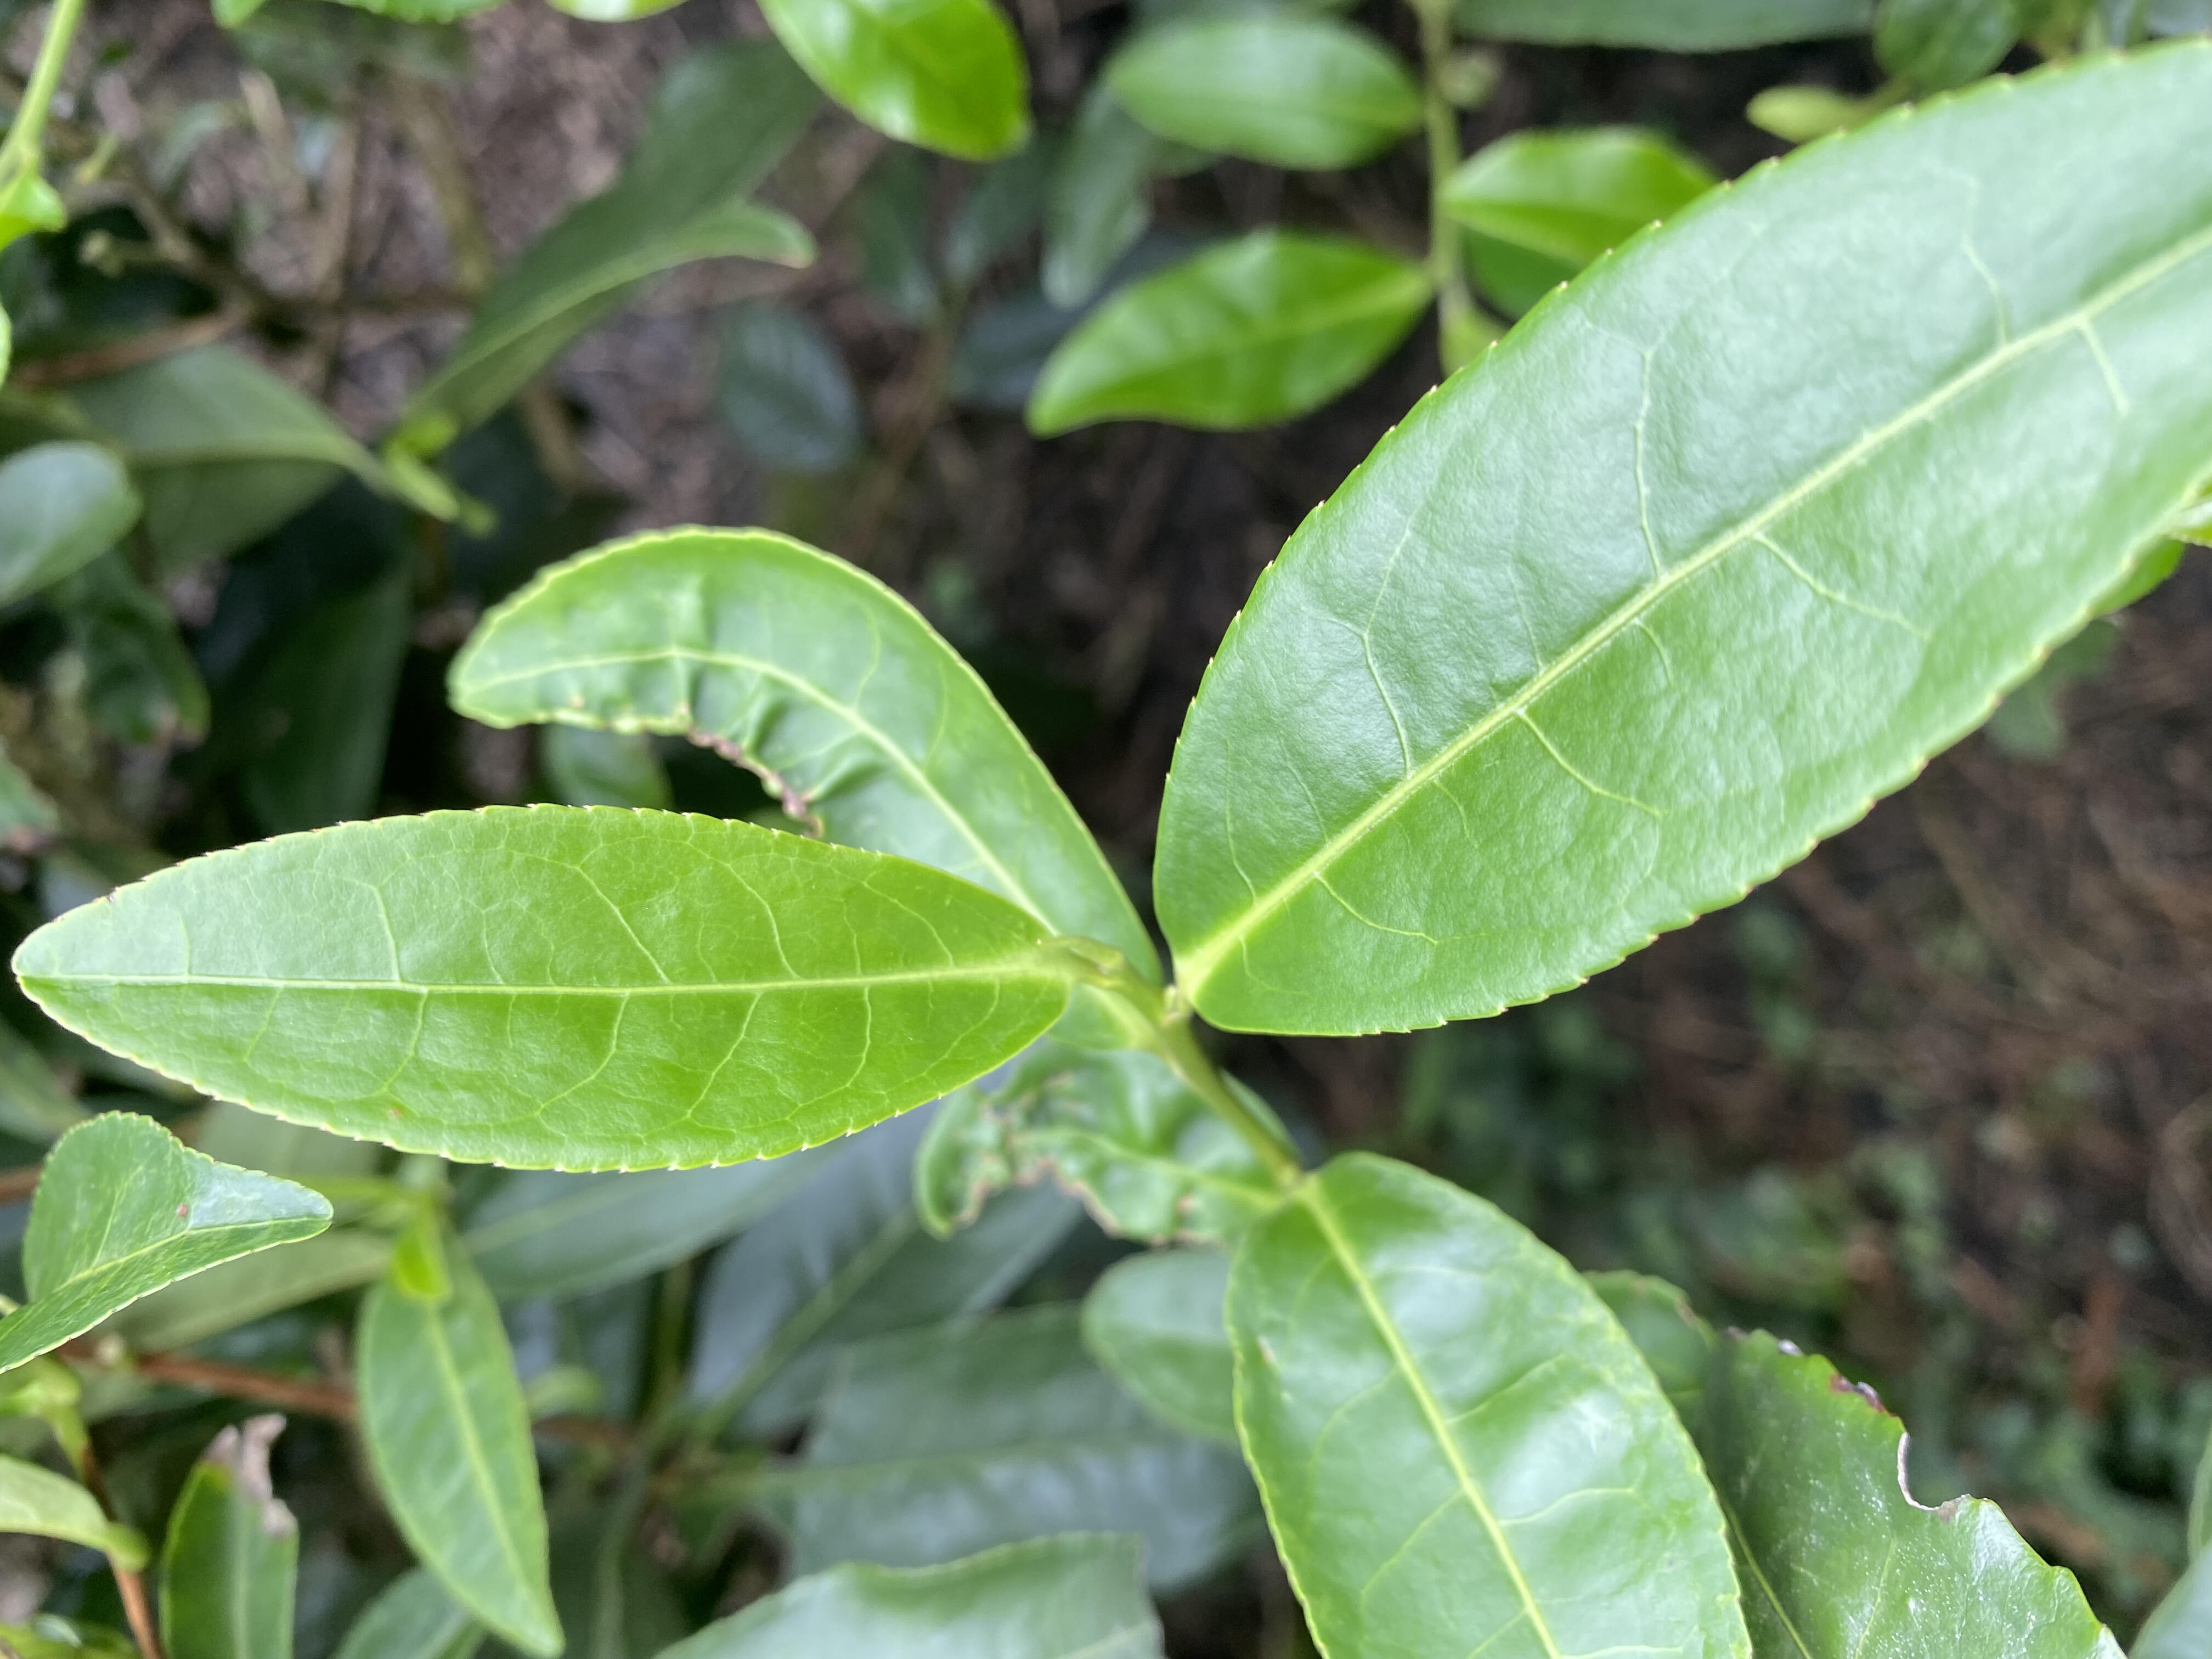chihuo_low: (1581, 1267, 2127, 1656)
healthy: (1150, 37, 2210, 1040), (10, 800, 1076, 1171), (1226, 1148, 1752, 1656)
tanju_high: (155, 1412, 301, 1656)
tanju_low: (3, 1114, 331, 1375)
